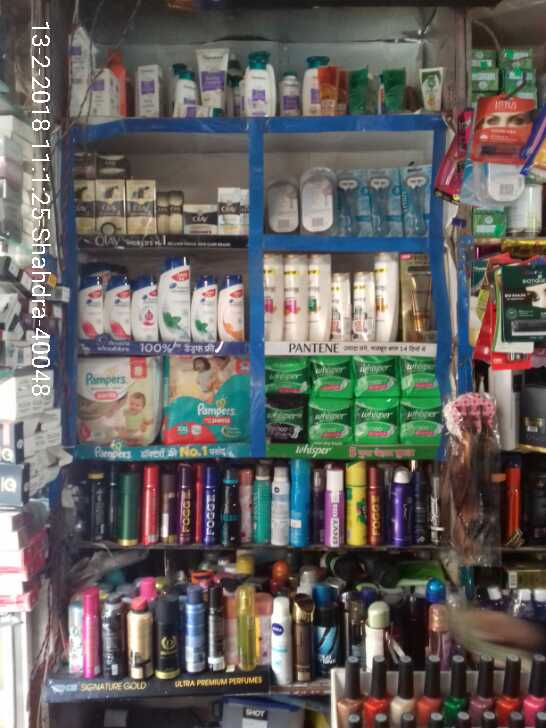venus: (300, 166, 340, 234), (400, 165, 433, 236), (267, 166, 300, 235), (369, 169, 400, 236), (340, 169, 369, 234)
